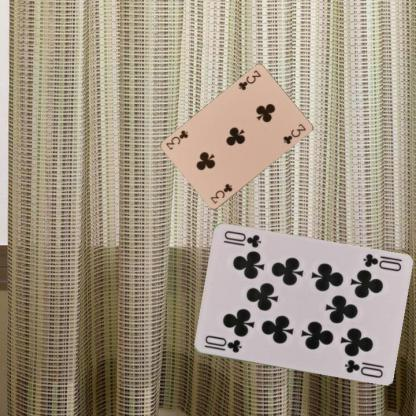10c: (360, 252, 403, 274), (201, 333, 243, 354)
3c: (236, 67, 262, 92), (207, 182, 234, 205)
